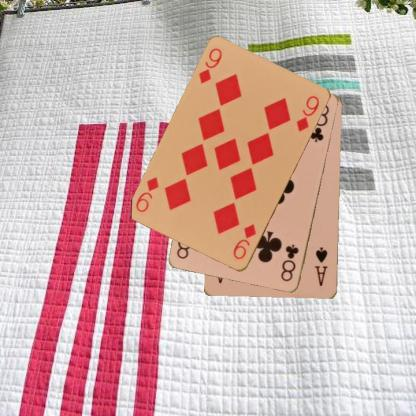8c: (278, 242, 300, 283)
9d: (230, 221, 258, 261), (196, 46, 223, 86)
As: (313, 245, 329, 288)
